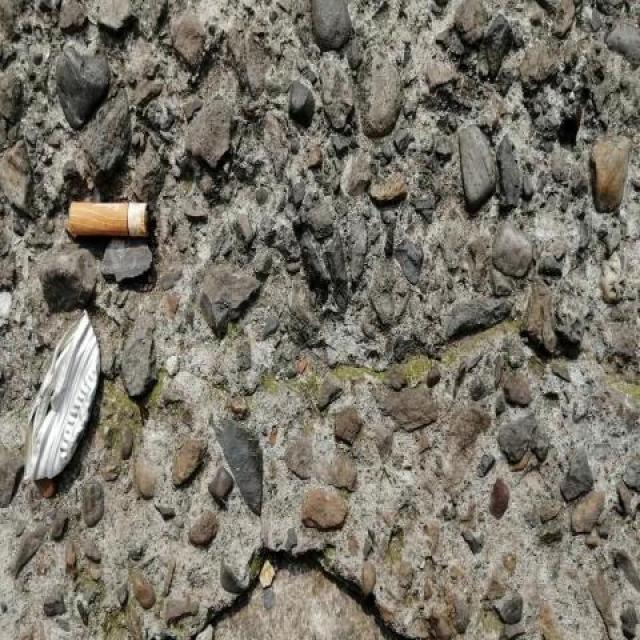non-organic waste: (64, 194, 160, 250)
